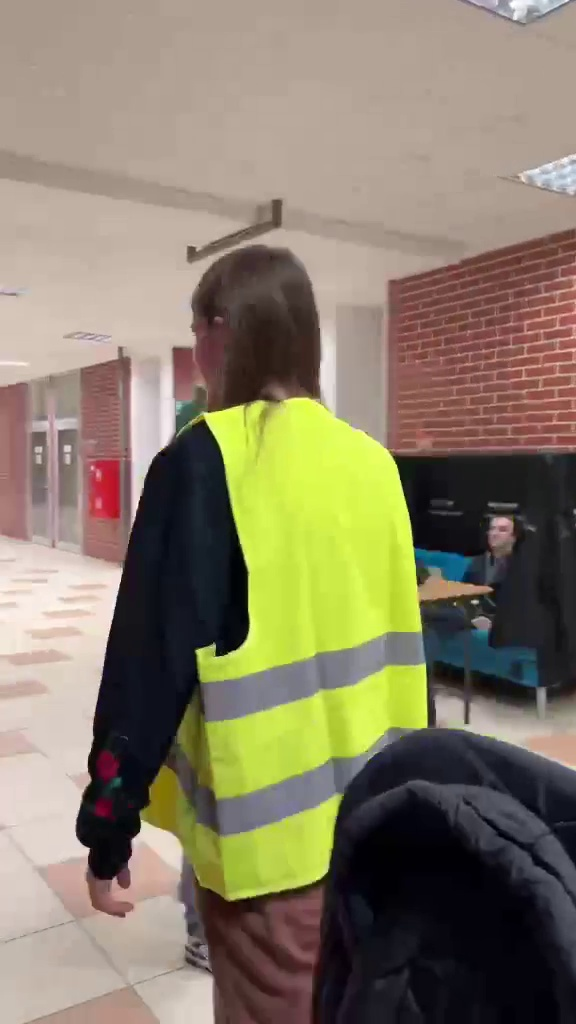vest: (98, 252, 433, 1009)
